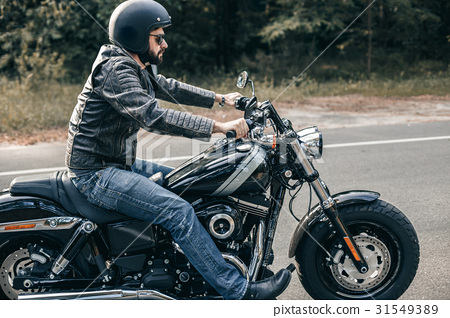helmet: (105, 3, 180, 63)
